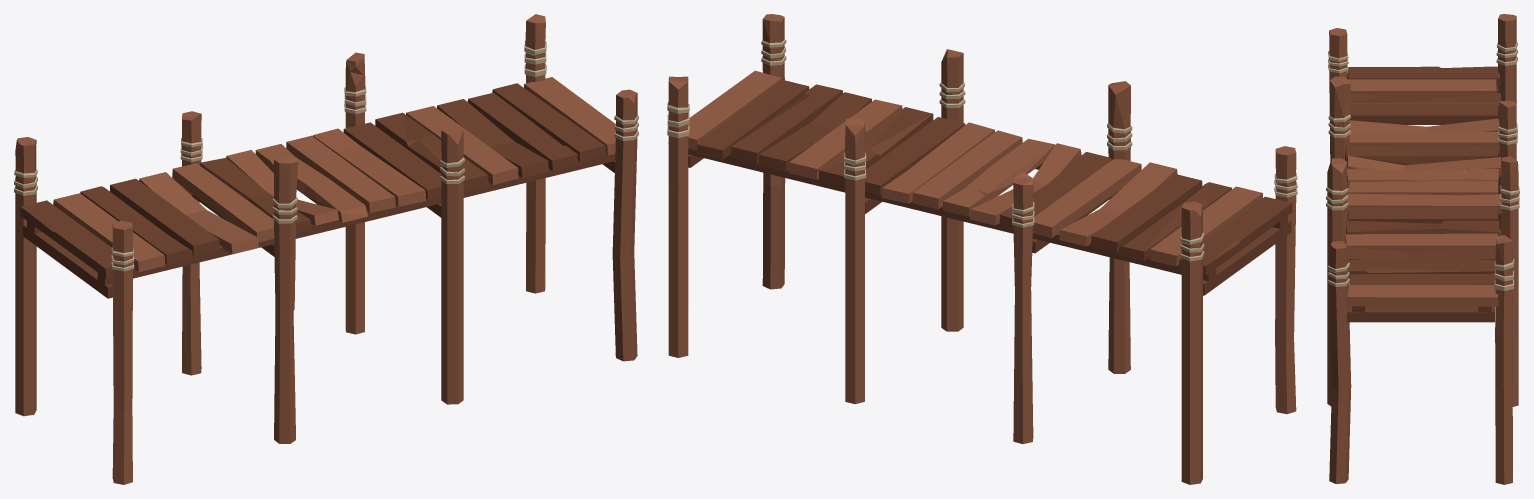
The model's file is Footbridge_1.fbx.
3 renders of one model, left to right at view 1: azimuth 30°, elevation 25°; view 2: azimuth 150°, elevation 25°; view 3: azimuth 270°, elevation 25°, orthographic. The views are drawn at different scales.
Visible parts, largest first — view 1: Footbridge_1; view 2: Footbridge_1; view 3: Footbridge_1.
Part boxes in pixels (<box>): Footbridge_1: <box>14,14,638,484</box>; Footbridge_1: <box>667,14,1297,484</box>; Footbridge_1: <box>1326,14,1519,484</box>.
Size of the model in its own units: 8.95 by 4.51 by 3.16.
